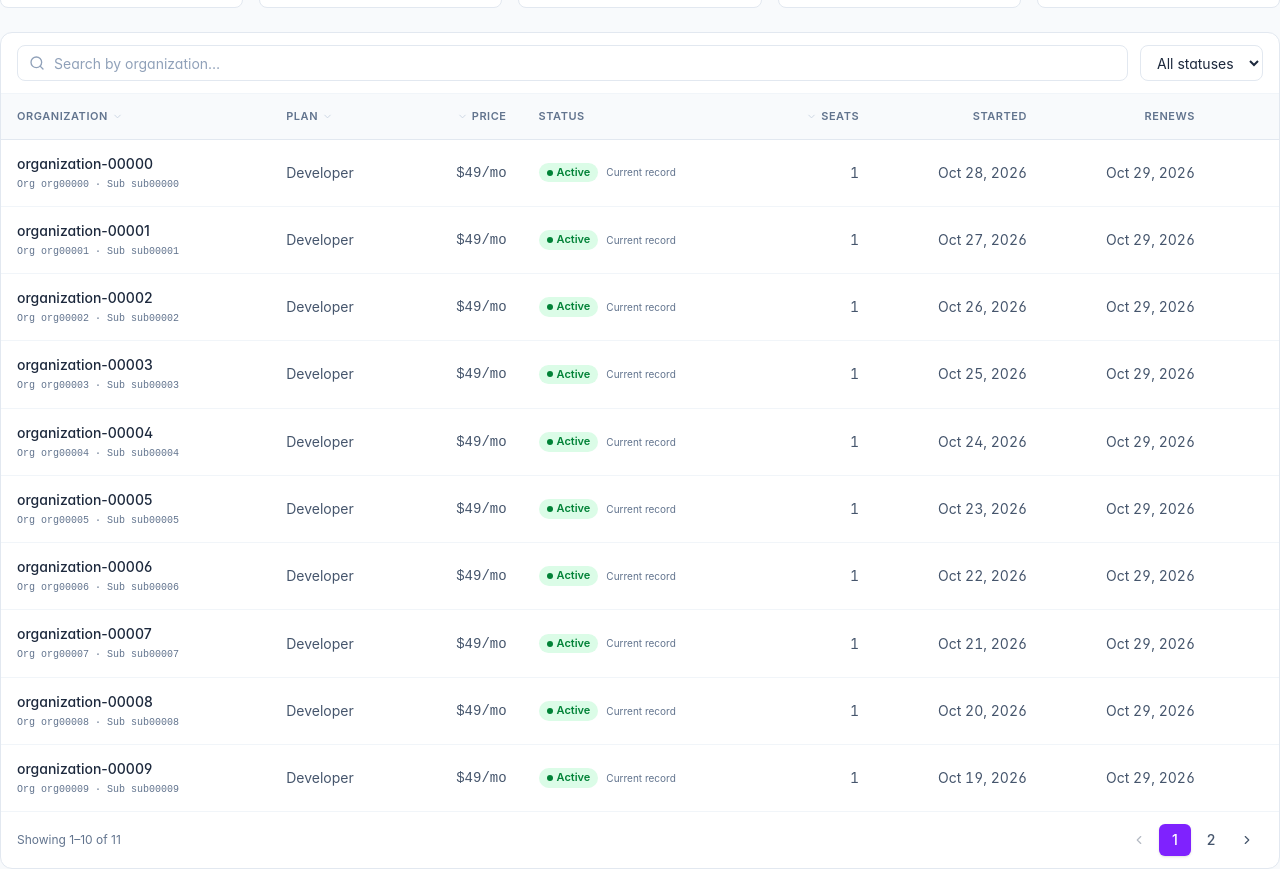
subscription identity and history › keeps local pagination working with the added references
(page scrolled)
Click the button named "next page" at (1247, 840), box [1231,824,1263,856]
(page scrolled)
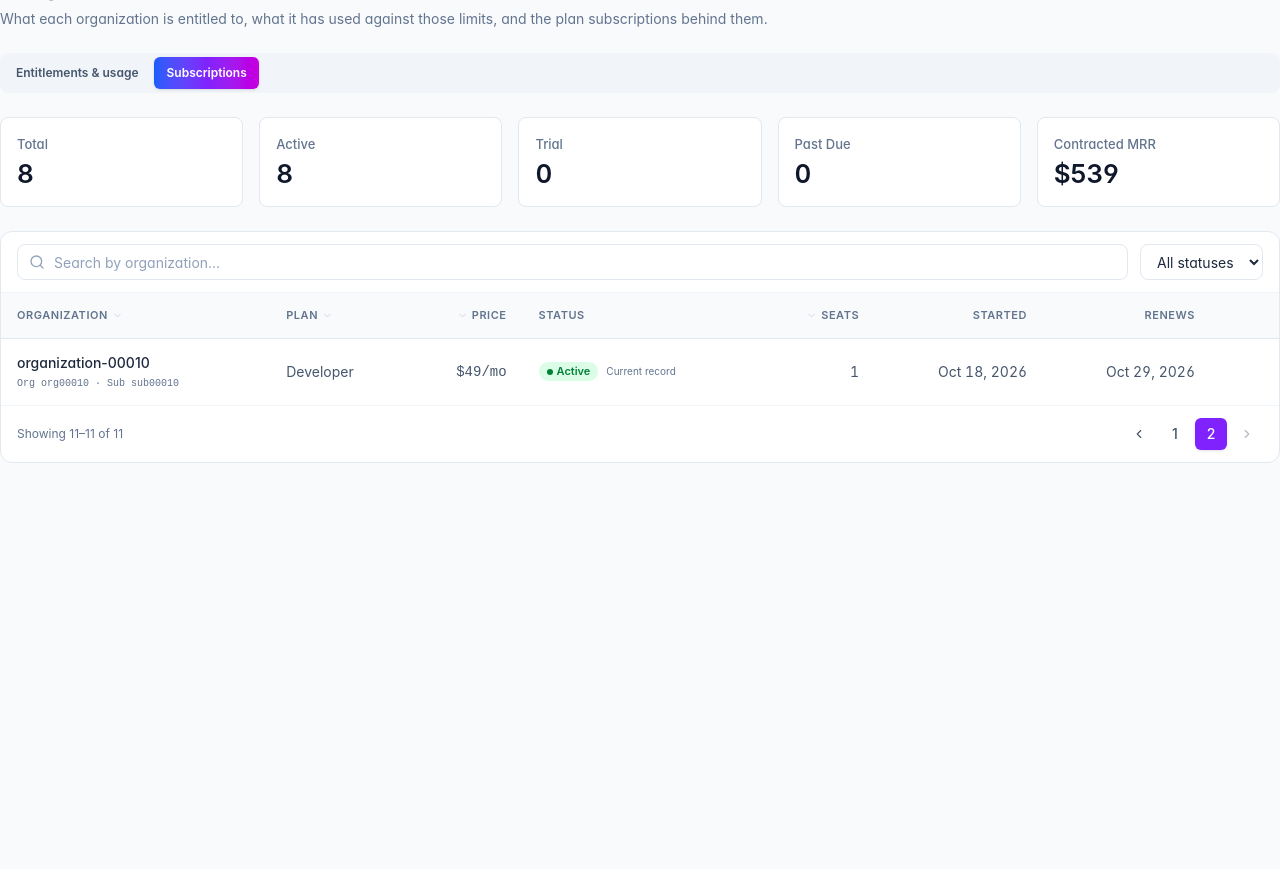
Expected: the table shows "Org org00010 · Sub sub00010", [17,354,1195,388]
Expected: the text "Showing 11–11 of 11" is shown, [17,426,123,442]
